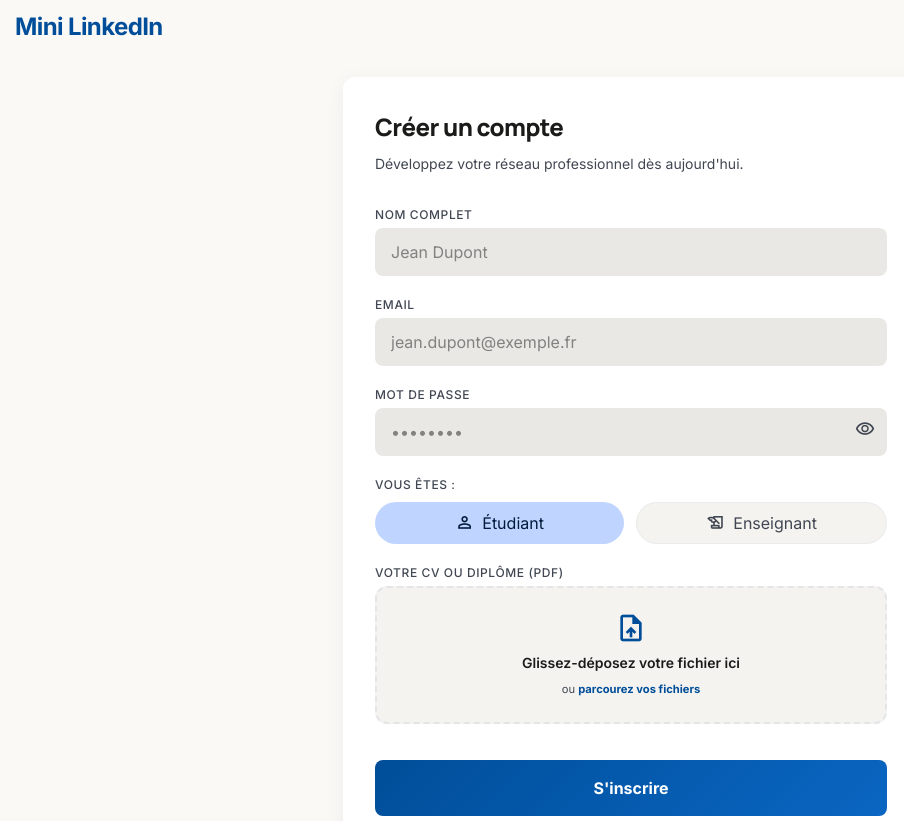
Scenario: Register › affiche une erreur si inscription échoue
The image size is (904, 821).
Type "Test User" into the field with placeholder "Jean Dupont" at (631, 252), box [375,228,887,276]
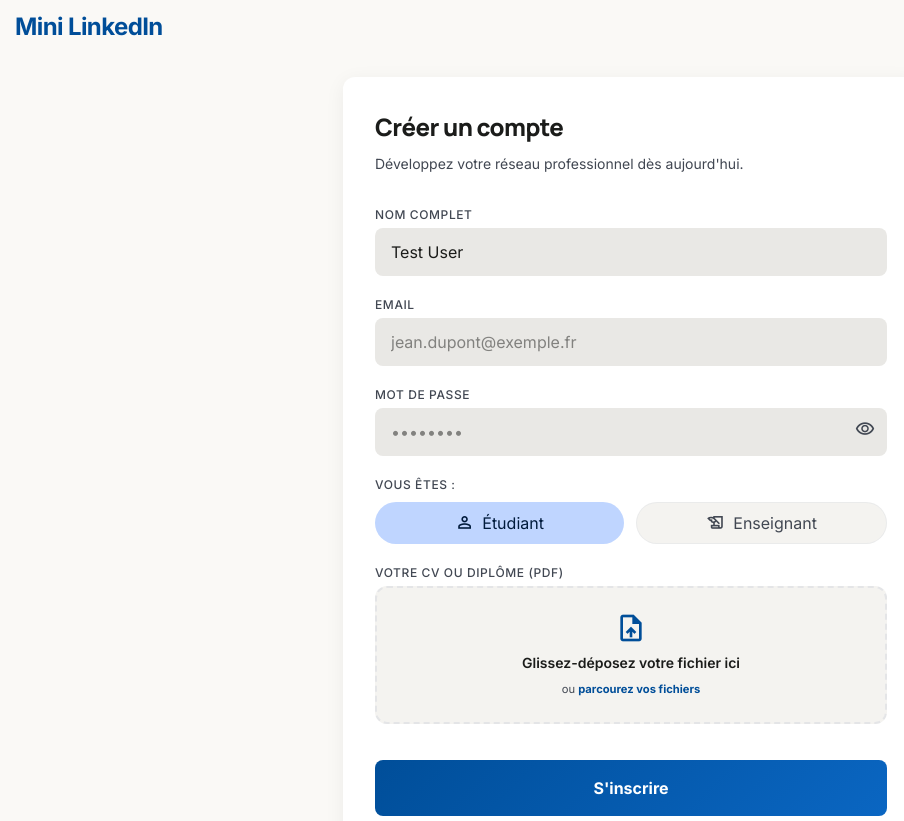
Type "test@test.com" into the field with placeholder "jean.dupont@exemple.fr" at (631, 342), box [375,318,887,366]
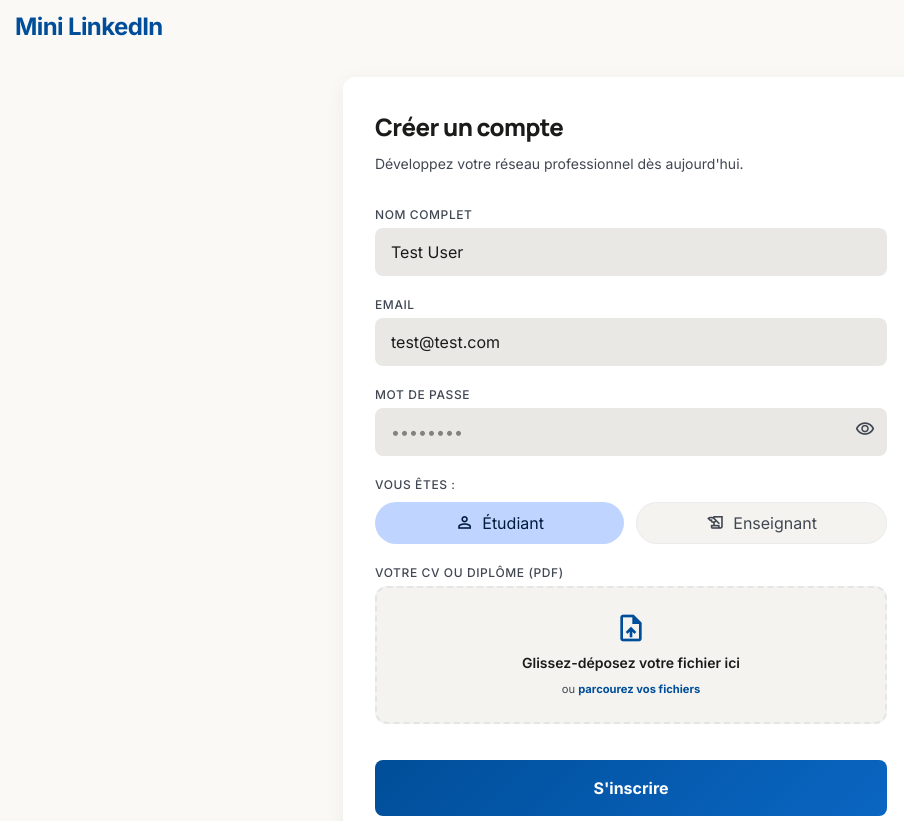
Type "password123" into the password field with placeholder "••••••••" at (631, 432), box [375,408,887,456]
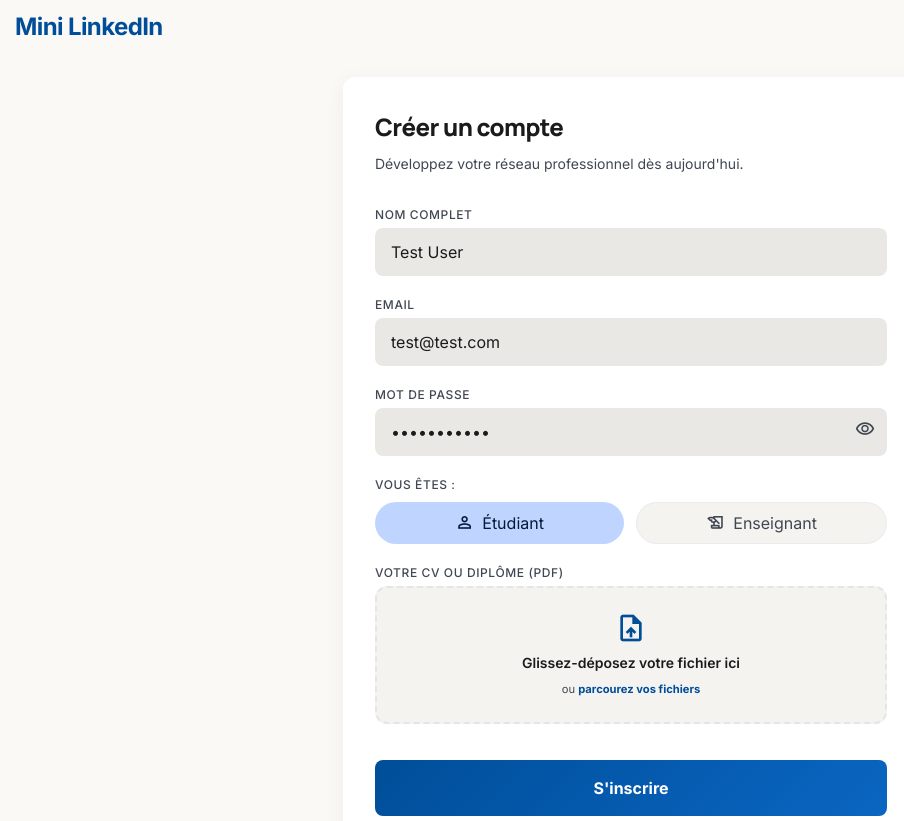
Click the button "S'inscrire" at (631, 788), box [375,760,887,816]
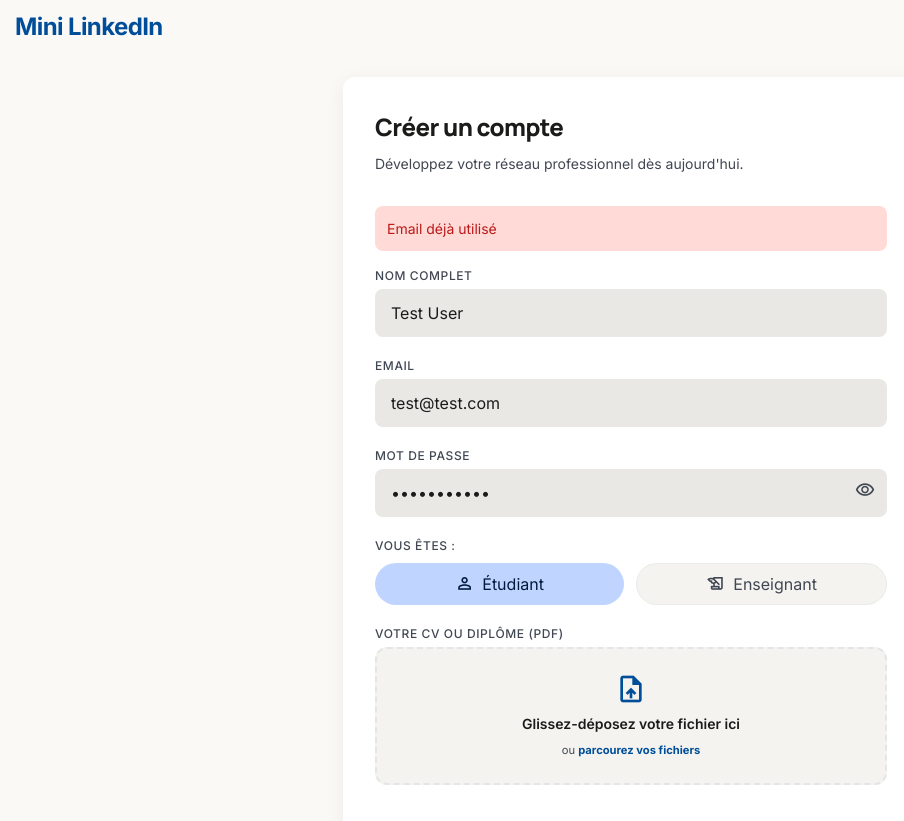
Now the text "Email déjà utilisé" is shown, box [375,206,887,251]
